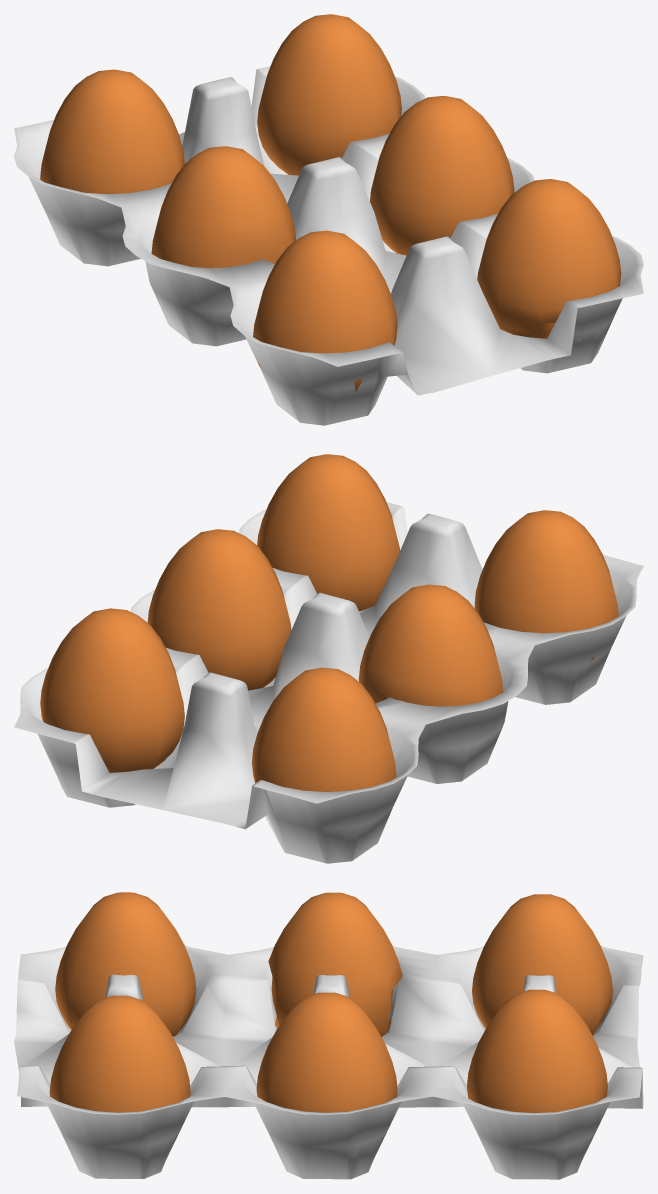
Rendered from Huevo.fbx.
3 renders of one model, top to bottom at view 1: azimuth 30°, elevation 25°; view 2: azimuth 150°, elevation 25°; view 3: azimuth 270°, elevation 25°, orthographic. The views are drawn at different scales.
Visible parts, largest first — view 1: Esfera.002; view 2: Esfera.002; view 3: Esfera.002.
Part boxes in pixels (x1,y1,x2,y2): Esfera.002: (14, 14, 643, 425); Esfera.002: (14, 454, 643, 863); Esfera.002: (14, 892, 643, 1179).
Bounding box in the file's own units: 890 × 389 × 1326.
